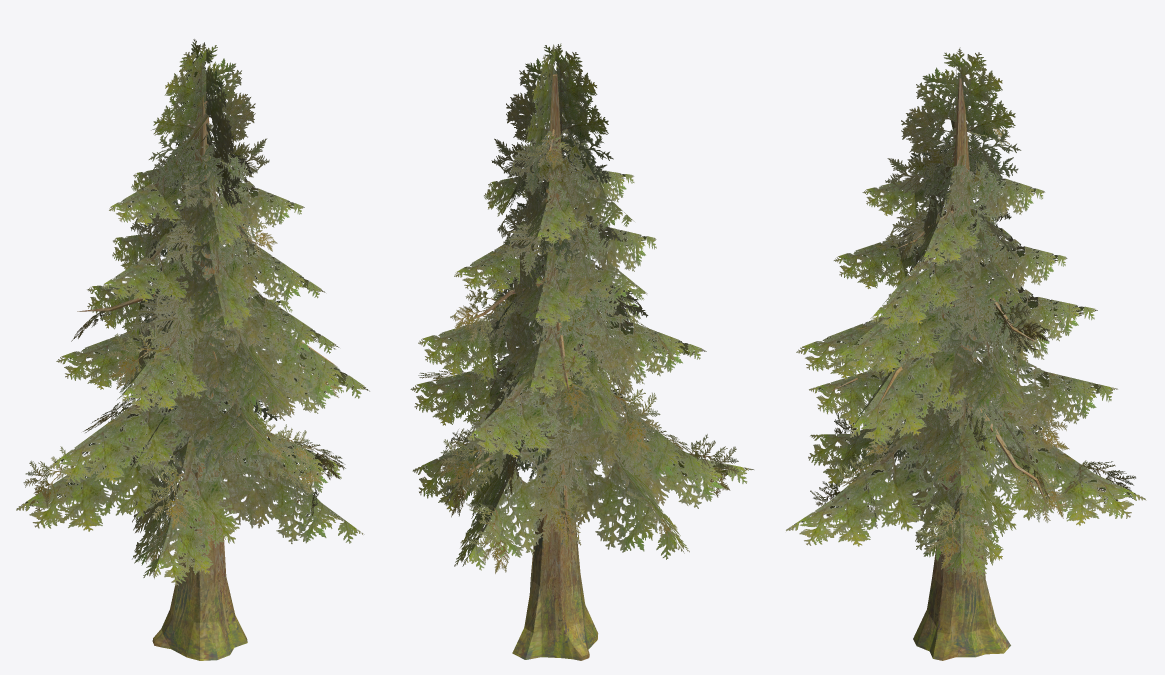
The model's file is Tree 2.FBX.
3 views of the same model, side by side, from view 1: azimuth 30°, elevation 25°; view 2: azimuth 150°, elevation 25°; view 3: azimuth 270°, elevation 25° (orthographic).
Parts seen in each view (by area): view 1: tree 2; view 2: tree 2; view 3: tree 2.
Part boxes in pixels (x1,y1,x2,y2): tree 2: [16, 39, 369, 660]; tree 2: [410, 43, 753, 660]; tree 2: [786, 47, 1146, 660].
Bounding box in the file's own units: 230 × 433 × 241.
Materials: 3 (3 with a texture image).
